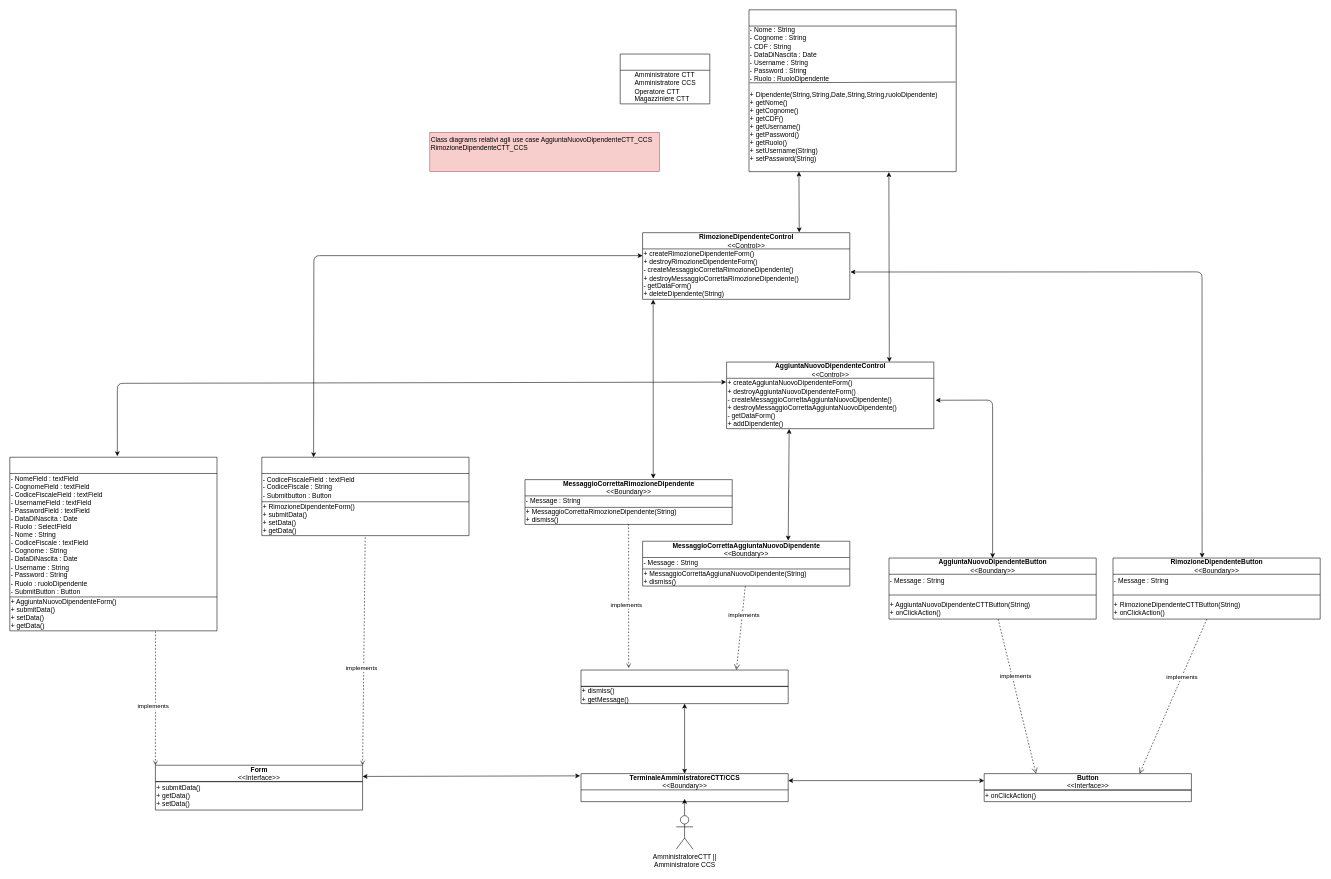
The diagram is 1331 pixels wide and 879 high, and some of its shapes have lost their labels. The shapes that lost their labels are listed below. From the top down, each one's box as (x1, y1, x2, y2) in pixels, then its label:
(620, 53, 710, 104): RuoloDipendente <<Enumeration>>
(748, 9, 956, 172): Dipendente <<Entity>>
(261, 457, 469, 536): RimozioneDipendenteForm <<Boundary>>
(9, 457, 217, 631): AggiuntaNuovoDipendenteForm <<Boundary>>
(580, 669, 788, 704): Messaggio <<Interface>>
